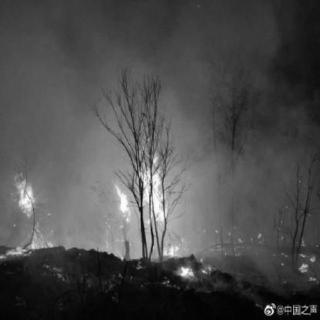Smoke: (37, 24, 91, 162)
